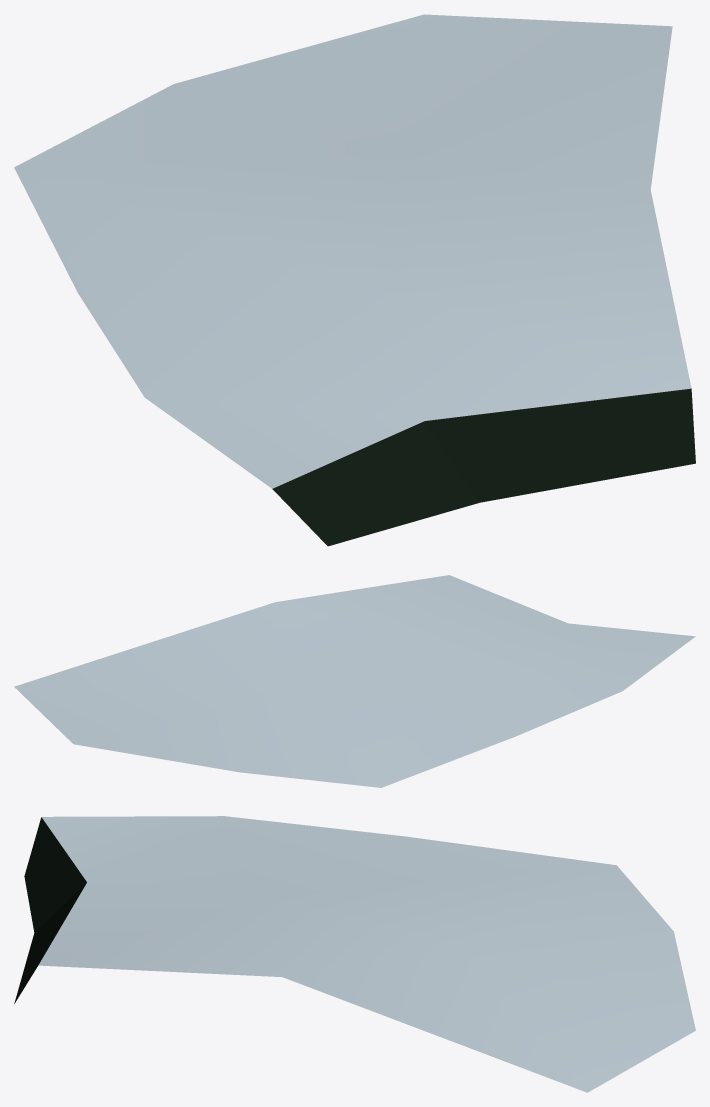
File: suelo_nieve_p4.fbx
3 views of the same model, one above another, from view 1: azimuth 30°, elevation 25°; view 2: azimuth 150°, elevation 25°; view 3: azimuth 270°, elevation 25° (orthographic). The views are drawn at different scales.
Parts seen in each view (by area): view 1: Cylinder004; view 2: Cylinder004; view 3: Cylinder004.
Boxes of the visible parts, x1,y1,x2,y2 form: Cylinder004: (14,14,695,546); Cylinder004: (14,575,695,787); Cylinder004: (14,816,695,1092).
Bounding box in the file's own units: 68.49 × 8.9 × 71.33.
